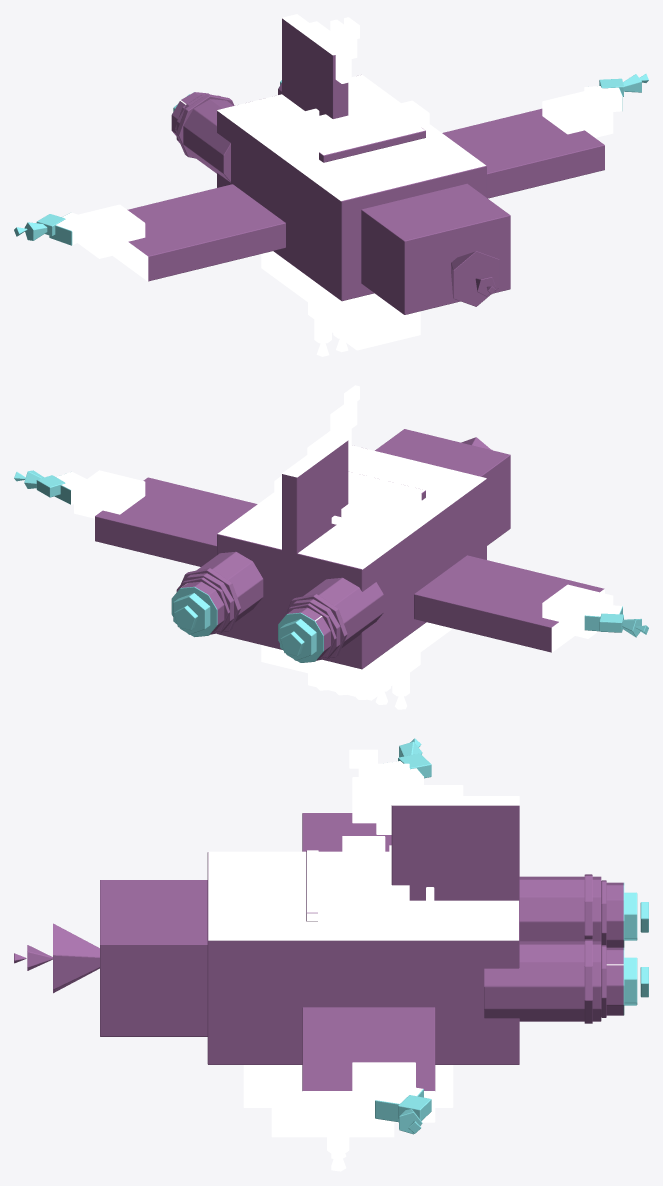
Rendered from Enemy_Bomber.fbx.
3 views of the same model, one above another, from view 1: azimuth 30°, elevation 25°; view 2: azimuth 150°, elevation 25°; view 3: azimuth 270°, elevation 25° (orthographic). The views are drawn at different scales.
Parts seen in each view (by area): view 1: Enemy_Bomber_Buffer_v6; view 2: Enemy_Bomber_Buffer_v6; view 3: Enemy_Bomber_Buffer_v6.
Boxes of the visible parts, bbox=[...] form: Enemy_Bomber_Buffer_v6: bbox=[14, 14, 648, 356]; Enemy_Bomber_Buffer_v6: bbox=[14, 385, 648, 709]; Enemy_Bomber_Buffer_v6: bbox=[14, 738, 648, 1171].
Size of the model in its own units: 8.88 by 4.25 by 6.21.
